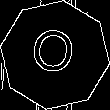O_S: (30, 26, 80, 84)
